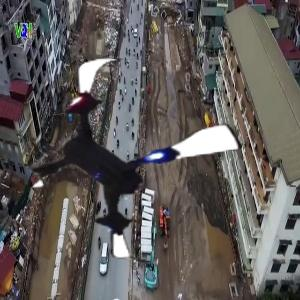drone: (20, 46, 244, 270)
